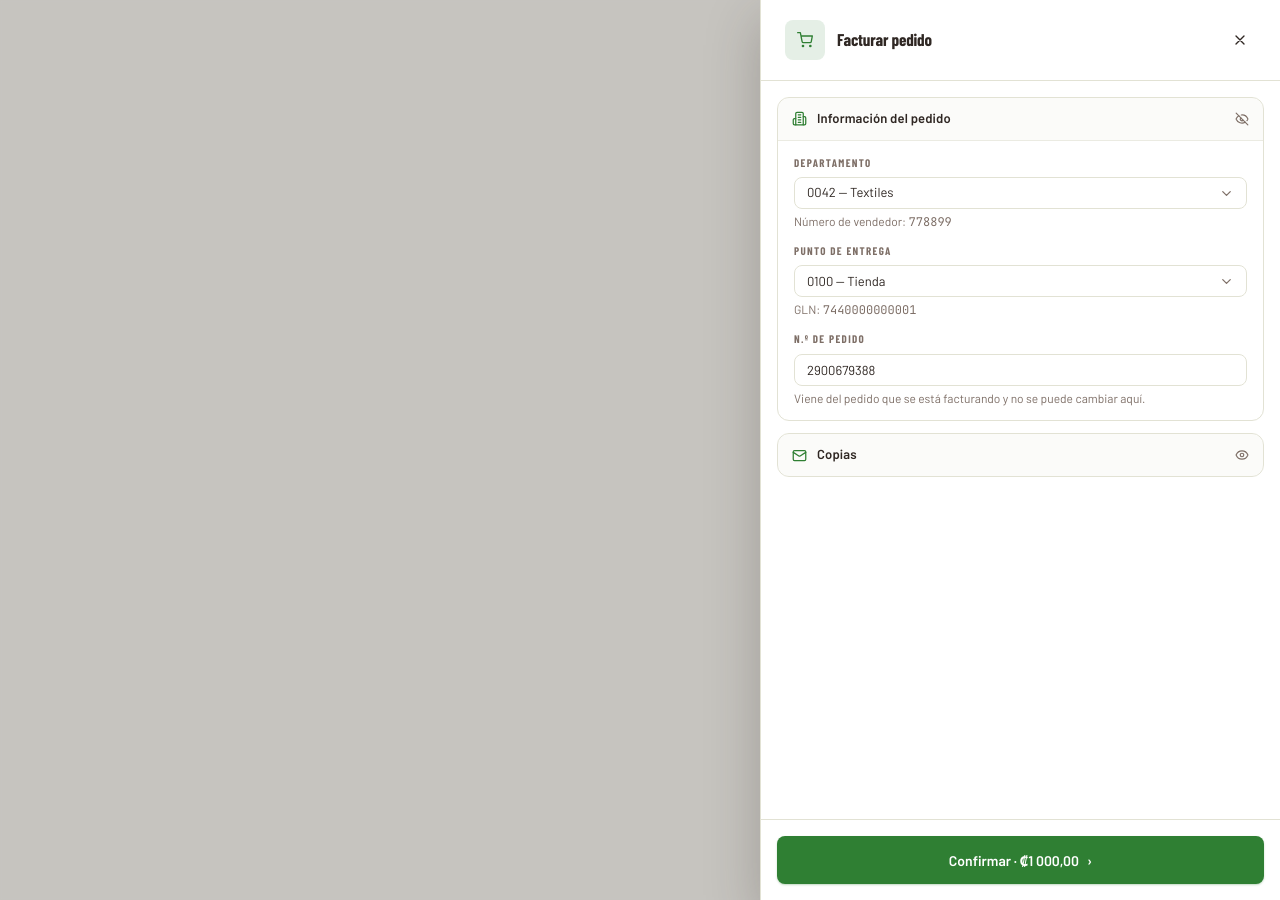
it: checkout error toast › shows validation errors above the form without submitting
Click the button "Confirmar · ₡1 000,00 ›".
click(1020, 860)  # box [777,836,1264,884]
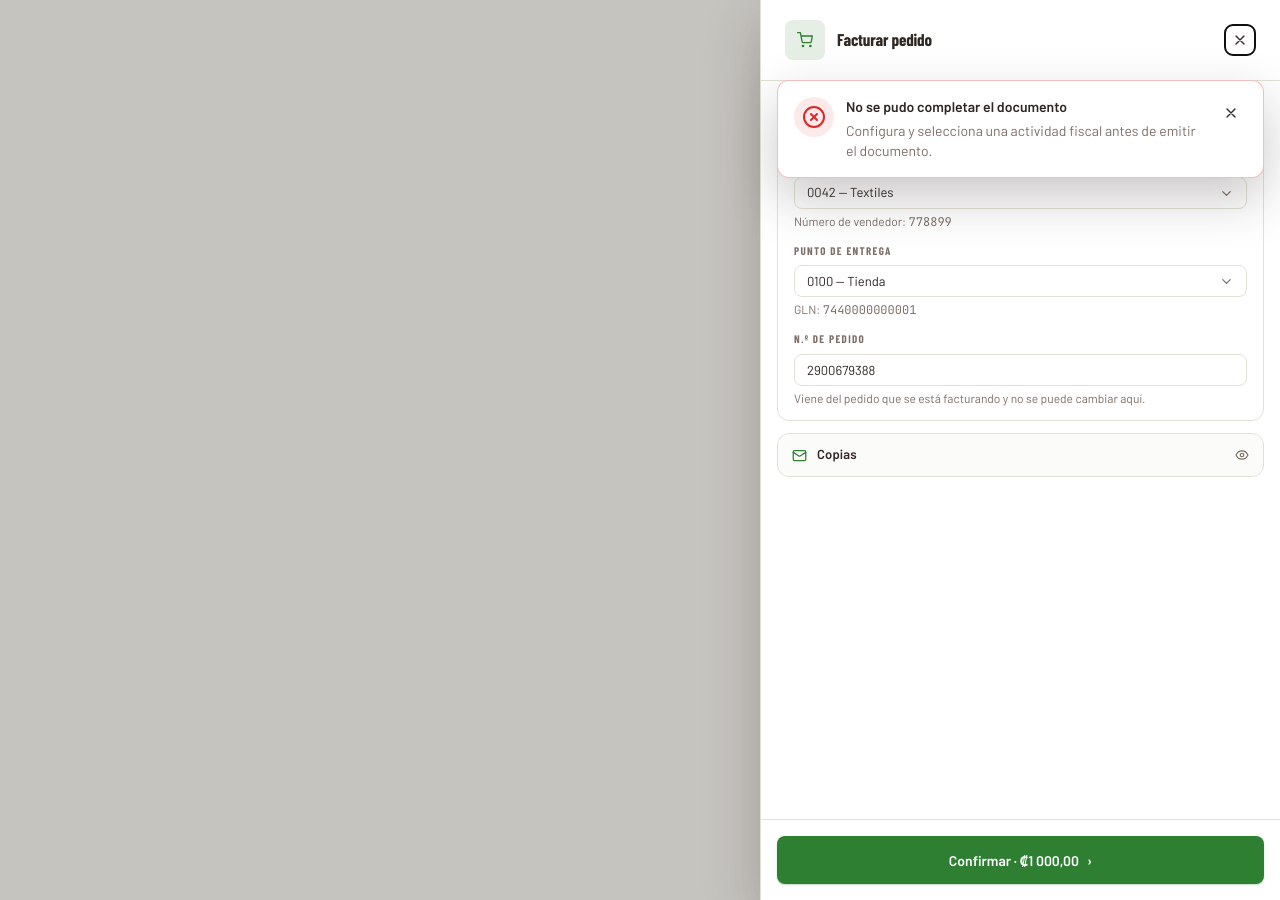
Check: the message shows "actividad fiscal", box [846,122,1196,159]
